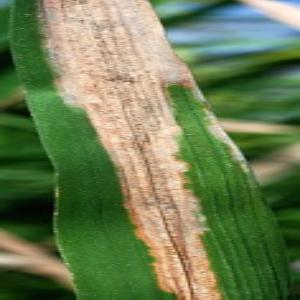Hawar Daun: (86, 97, 208, 224), (30, 1, 188, 99), (94, 139, 172, 255), (148, 133, 209, 244)
